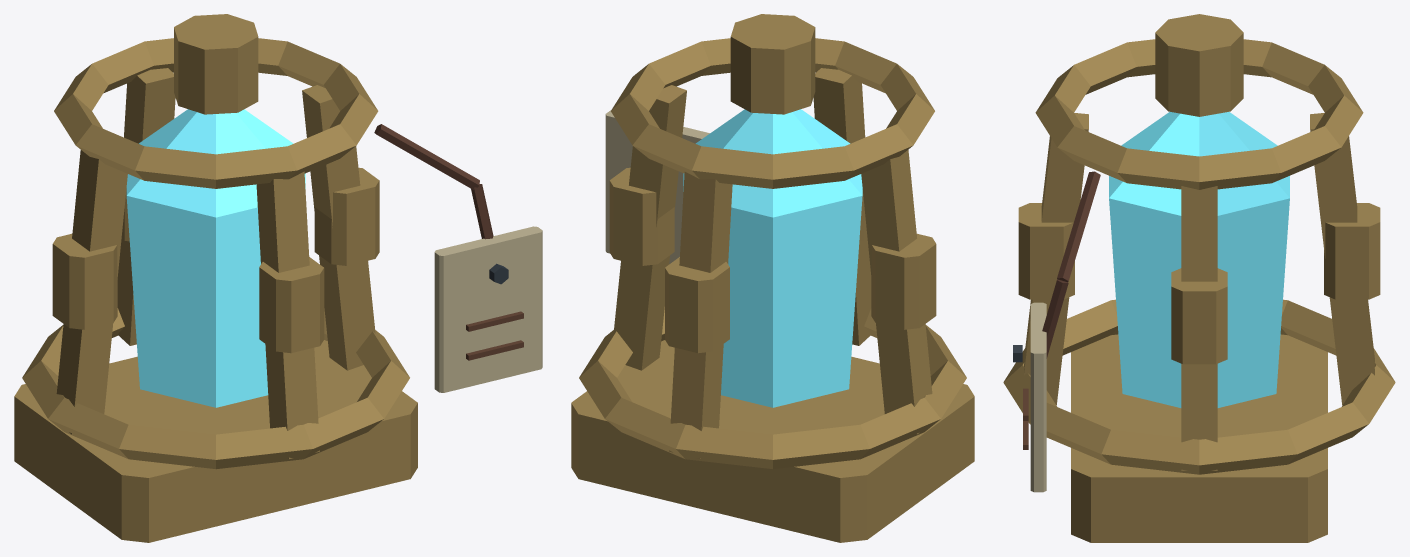
Rendered from core_trade.glb.
3 views of the same model, side by side, from view 1: azimuth 30°, elevation 25°; view 2: azimuth 150°, elevation 25°; view 3: azimuth 270°, elevation 25° (orthographic).
Parts seen in each view (by area): view 1: geometry, core; view 2: geometry, core; view 3: geometry, core.
Boxes of the visible parts, left/top/right/bottom form: geometry: left=14, top=14, right=542, bottom=542; core: left=126, top=109, right=305, bottom=407; geometry: left=571, top=14, right=974, bottom=542; core: left=683, top=109, right=862, bottom=407; geometry: left=1003, top=14, right=1395, bottom=542; core: left=1109, top=112, right=1289, bottom=407.
Bounding box in the file's own units: 0.599 × 0.6 × 0.488.
